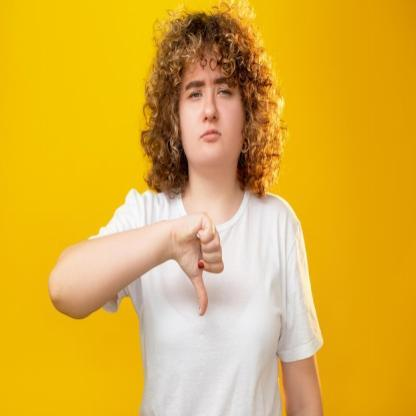thumb_down: (172, 208, 226, 322)
